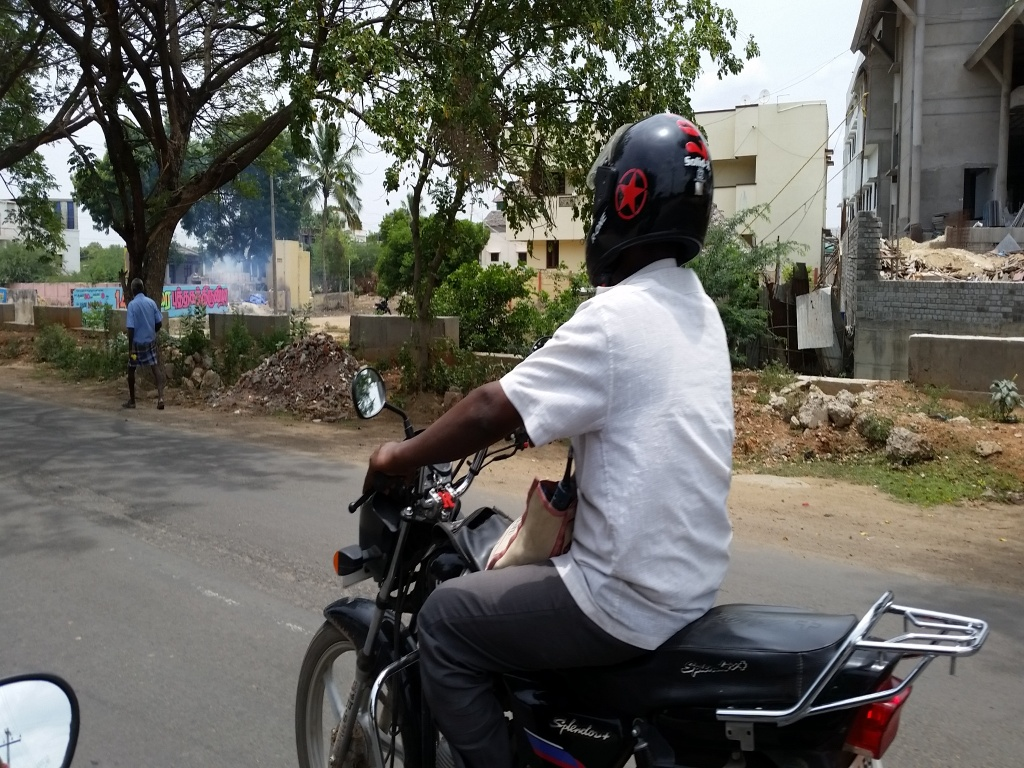biker: (252, 41, 1008, 768)
helmet: (570, 97, 732, 305)
